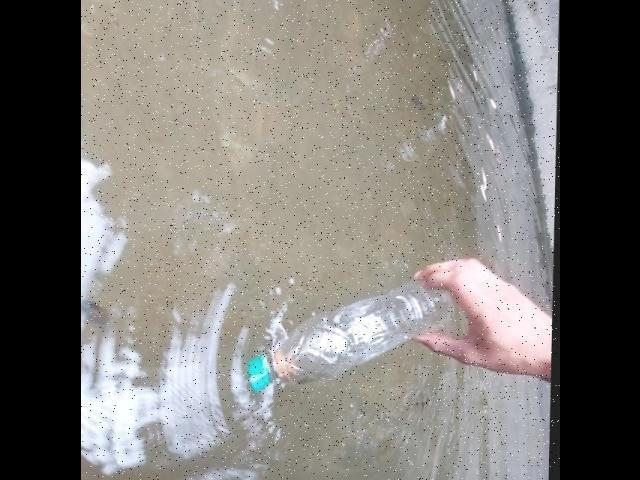Bottle: (239, 260, 455, 402)
